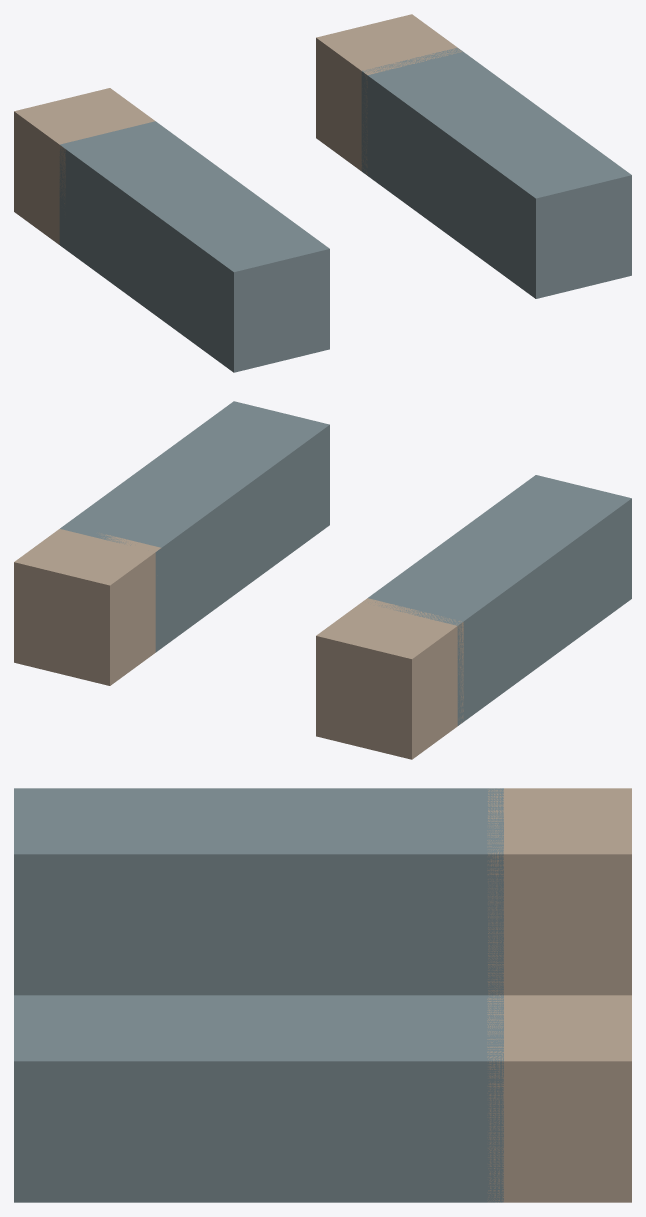
File: fps_arms.glb
The picture shows the model from 3 angles, top to bottom: view 1: azimuth 30°, elevation 25°; view 2: azimuth 150°, elevation 25°; view 3: azimuth 270°, elevation 25°; orthographic projection. The views are drawn at different scales.
Parts seen in each view (by area): view 1: left_arm, right_arm; view 2: left_arm, right_arm; view 3: left_arm, right_arm.
Part boxes in pixels (x1,y1,x2,y2): left_arm: (14,88,329,372); right_arm: (316,14,631,298); left_arm: (316,475,631,759); right_arm: (14,401,329,685); left_arm: (14,788,631,995); right_arm: (14,995,631,1202).
Bounding box in the file's own units: 0.58 × 0.14 × 0.555.
